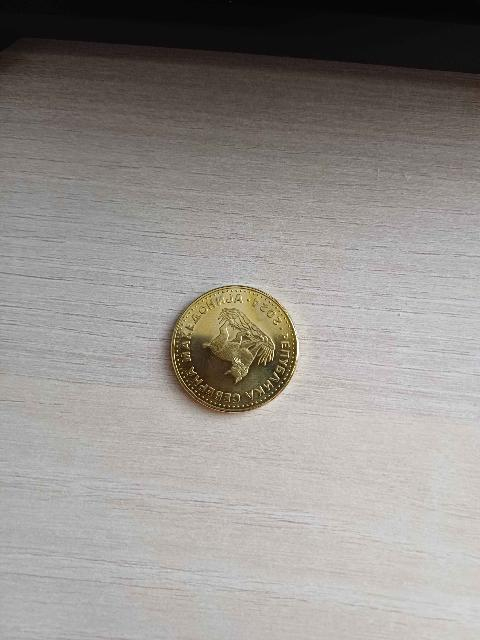5_coin: (173, 276, 297, 408)
